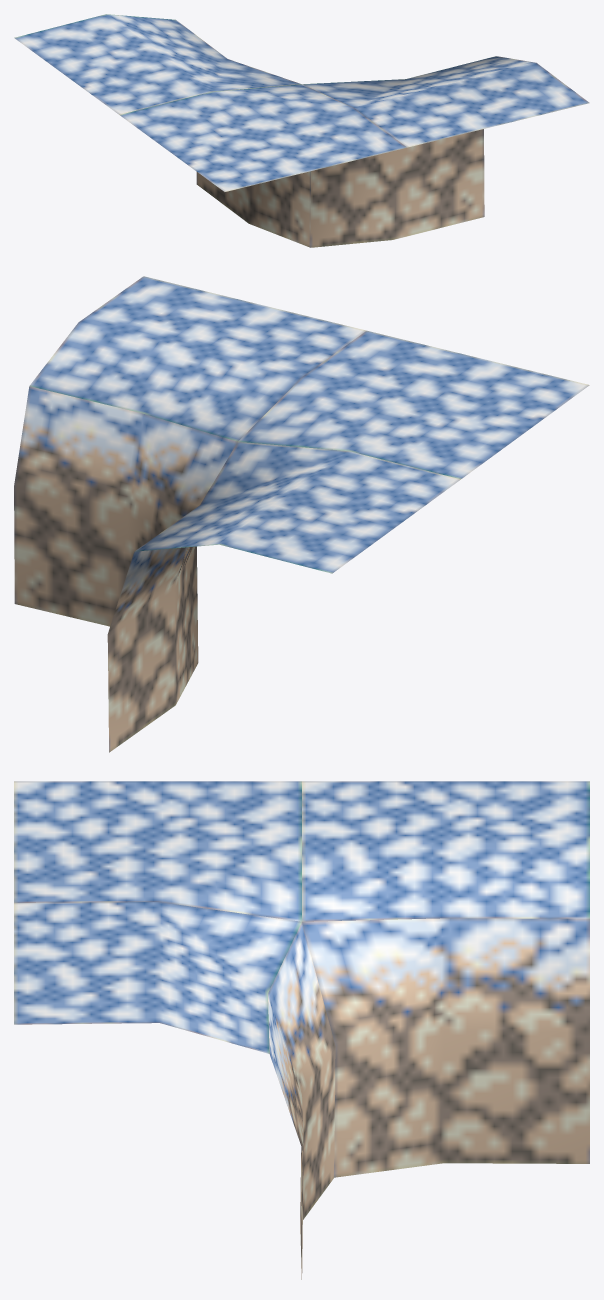
File: snowSTile_innerCorner_lowerLeft.fbx
3 views of the same model, one above another, from view 1: azimuth 30°, elevation 25°; view 2: azimuth 150°, elevation 25°; view 3: azimuth 270°, elevation 25° (orthographic). The views are drawn at different scales.
Parts seen in each view (by area): view 1: snowSTile_innerCorner_lowerLeft; view 2: snowSTile_innerCorner_lowerLeft; view 3: snowSTile_innerCorner_lowerLeft.
Boxes of the visible parts, bbox=[...] form: snowSTile_innerCorner_lowerLeft: bbox=[14, 14, 589, 247]; snowSTile_innerCorner_lowerLeft: bbox=[14, 276, 589, 752]; snowSTile_innerCorner_lowerLeft: bbox=[14, 781, 589, 1279].
Bounding box in the file's own units: 2 × 1.01 × 2.
